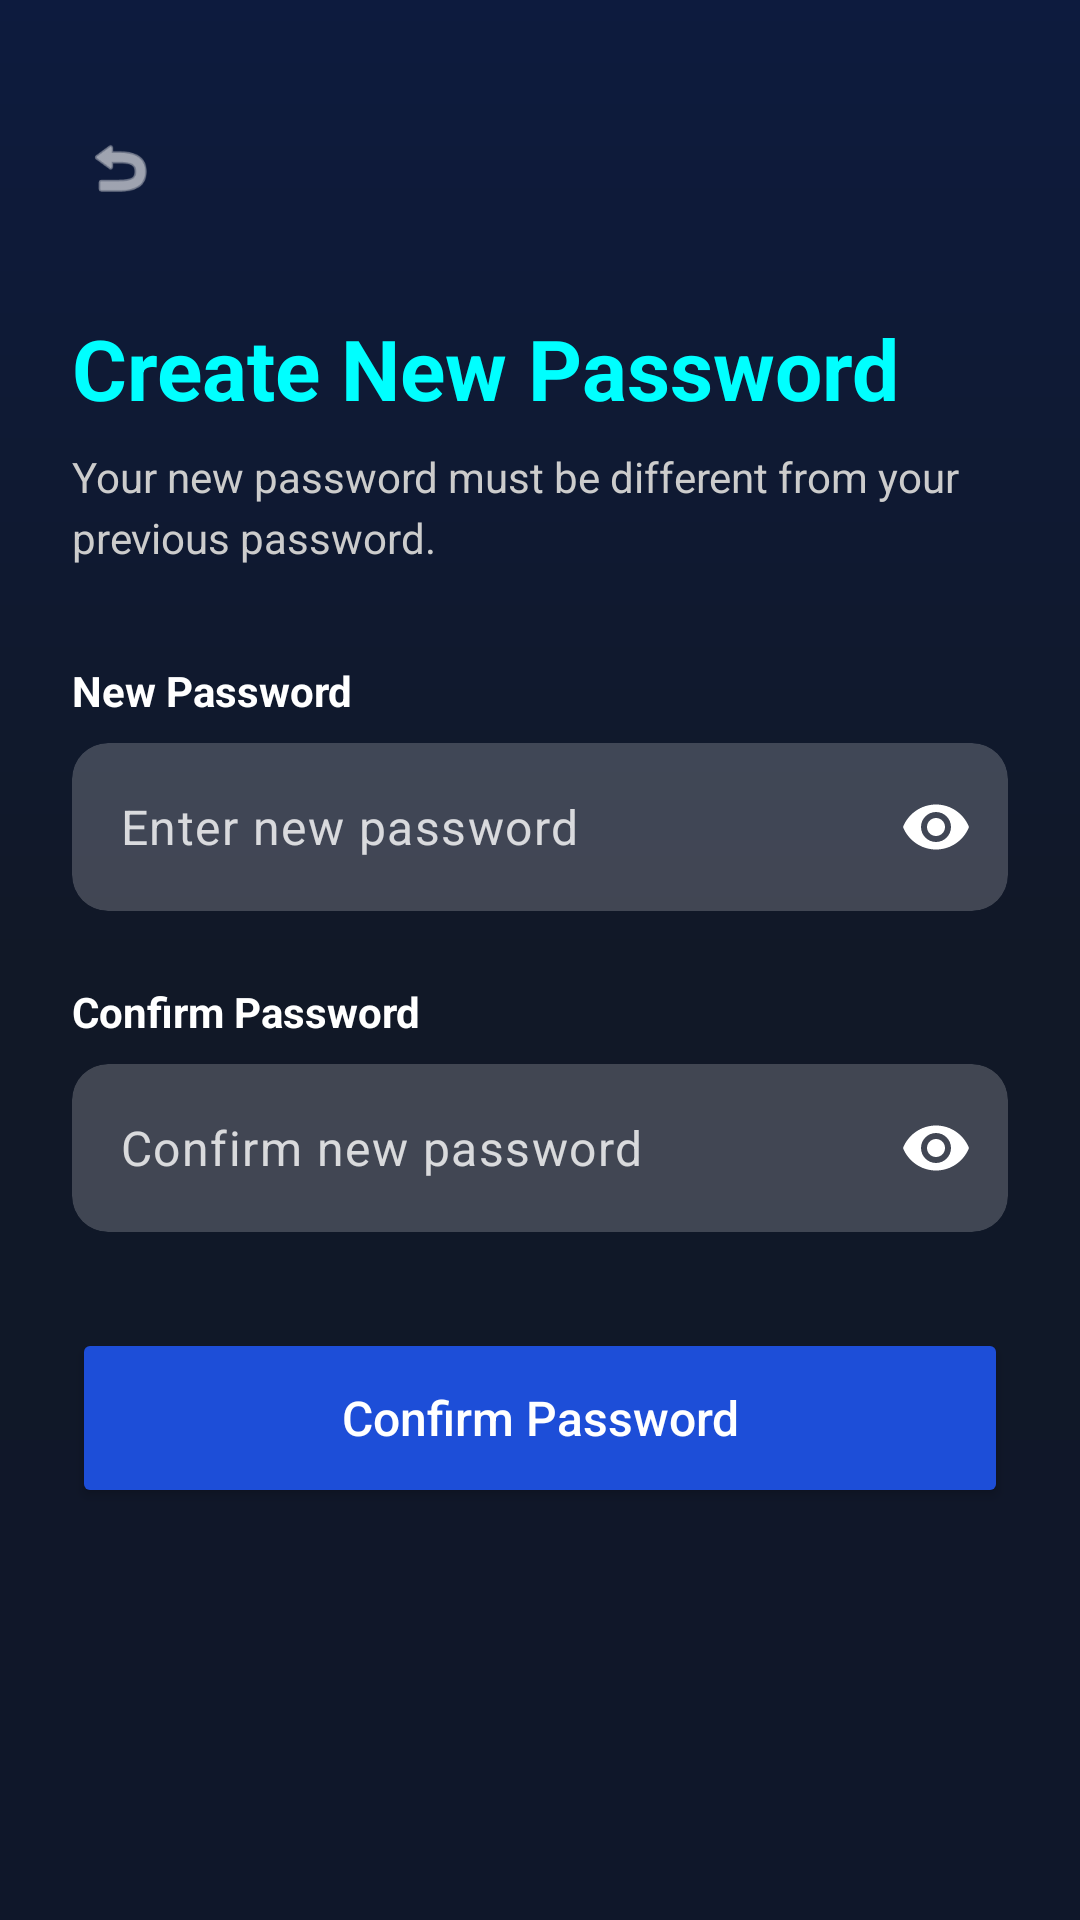

Where to tap for icons on this 1080*1920 app screen, as point (x, y):
revert: point (121, 168)
